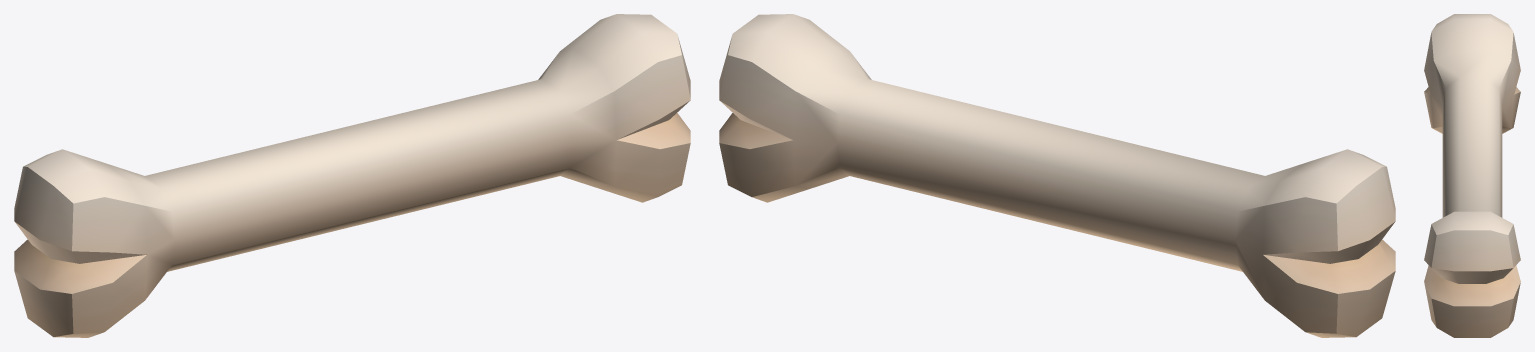
The model's file is kay-osso-longo.gltf.
3 views of the same model, side by side, from view 1: azimuth 30°, elevation 25°; view 2: azimuth 150°, elevation 25°; view 3: azimuth 270°, elevation 25° (orthographic). The views are drawn at different scales.
Parts seen in each view (by area): view 1: bone_C; view 2: bone_C; view 3: bone_C.
Boxes of the visible parts, box(x1,y1,x2,y2) form: bone_C: box(14, 14, 690, 337); bone_C: box(719, 14, 1395, 337); bone_C: box(1424, 14, 1520, 337).
Bounding box in the file's own units: 0.5535 × 0.138 × 0.1003.
Materials: 1 (1 with a texture image).
